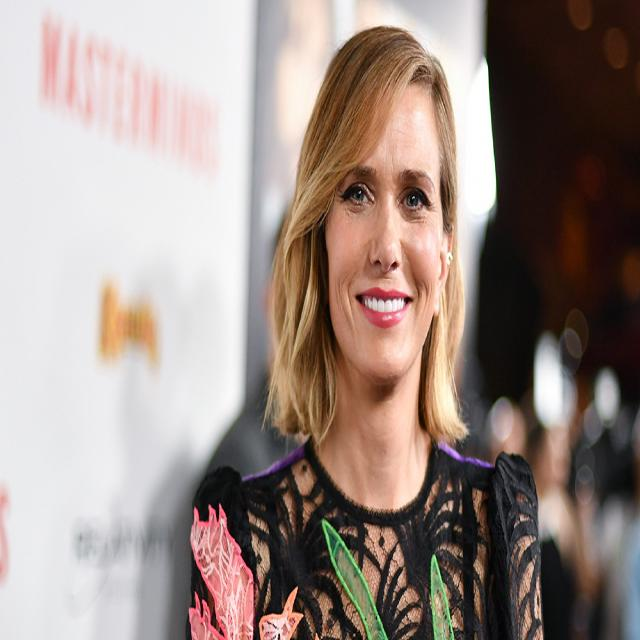human: (179, 21, 546, 640)
